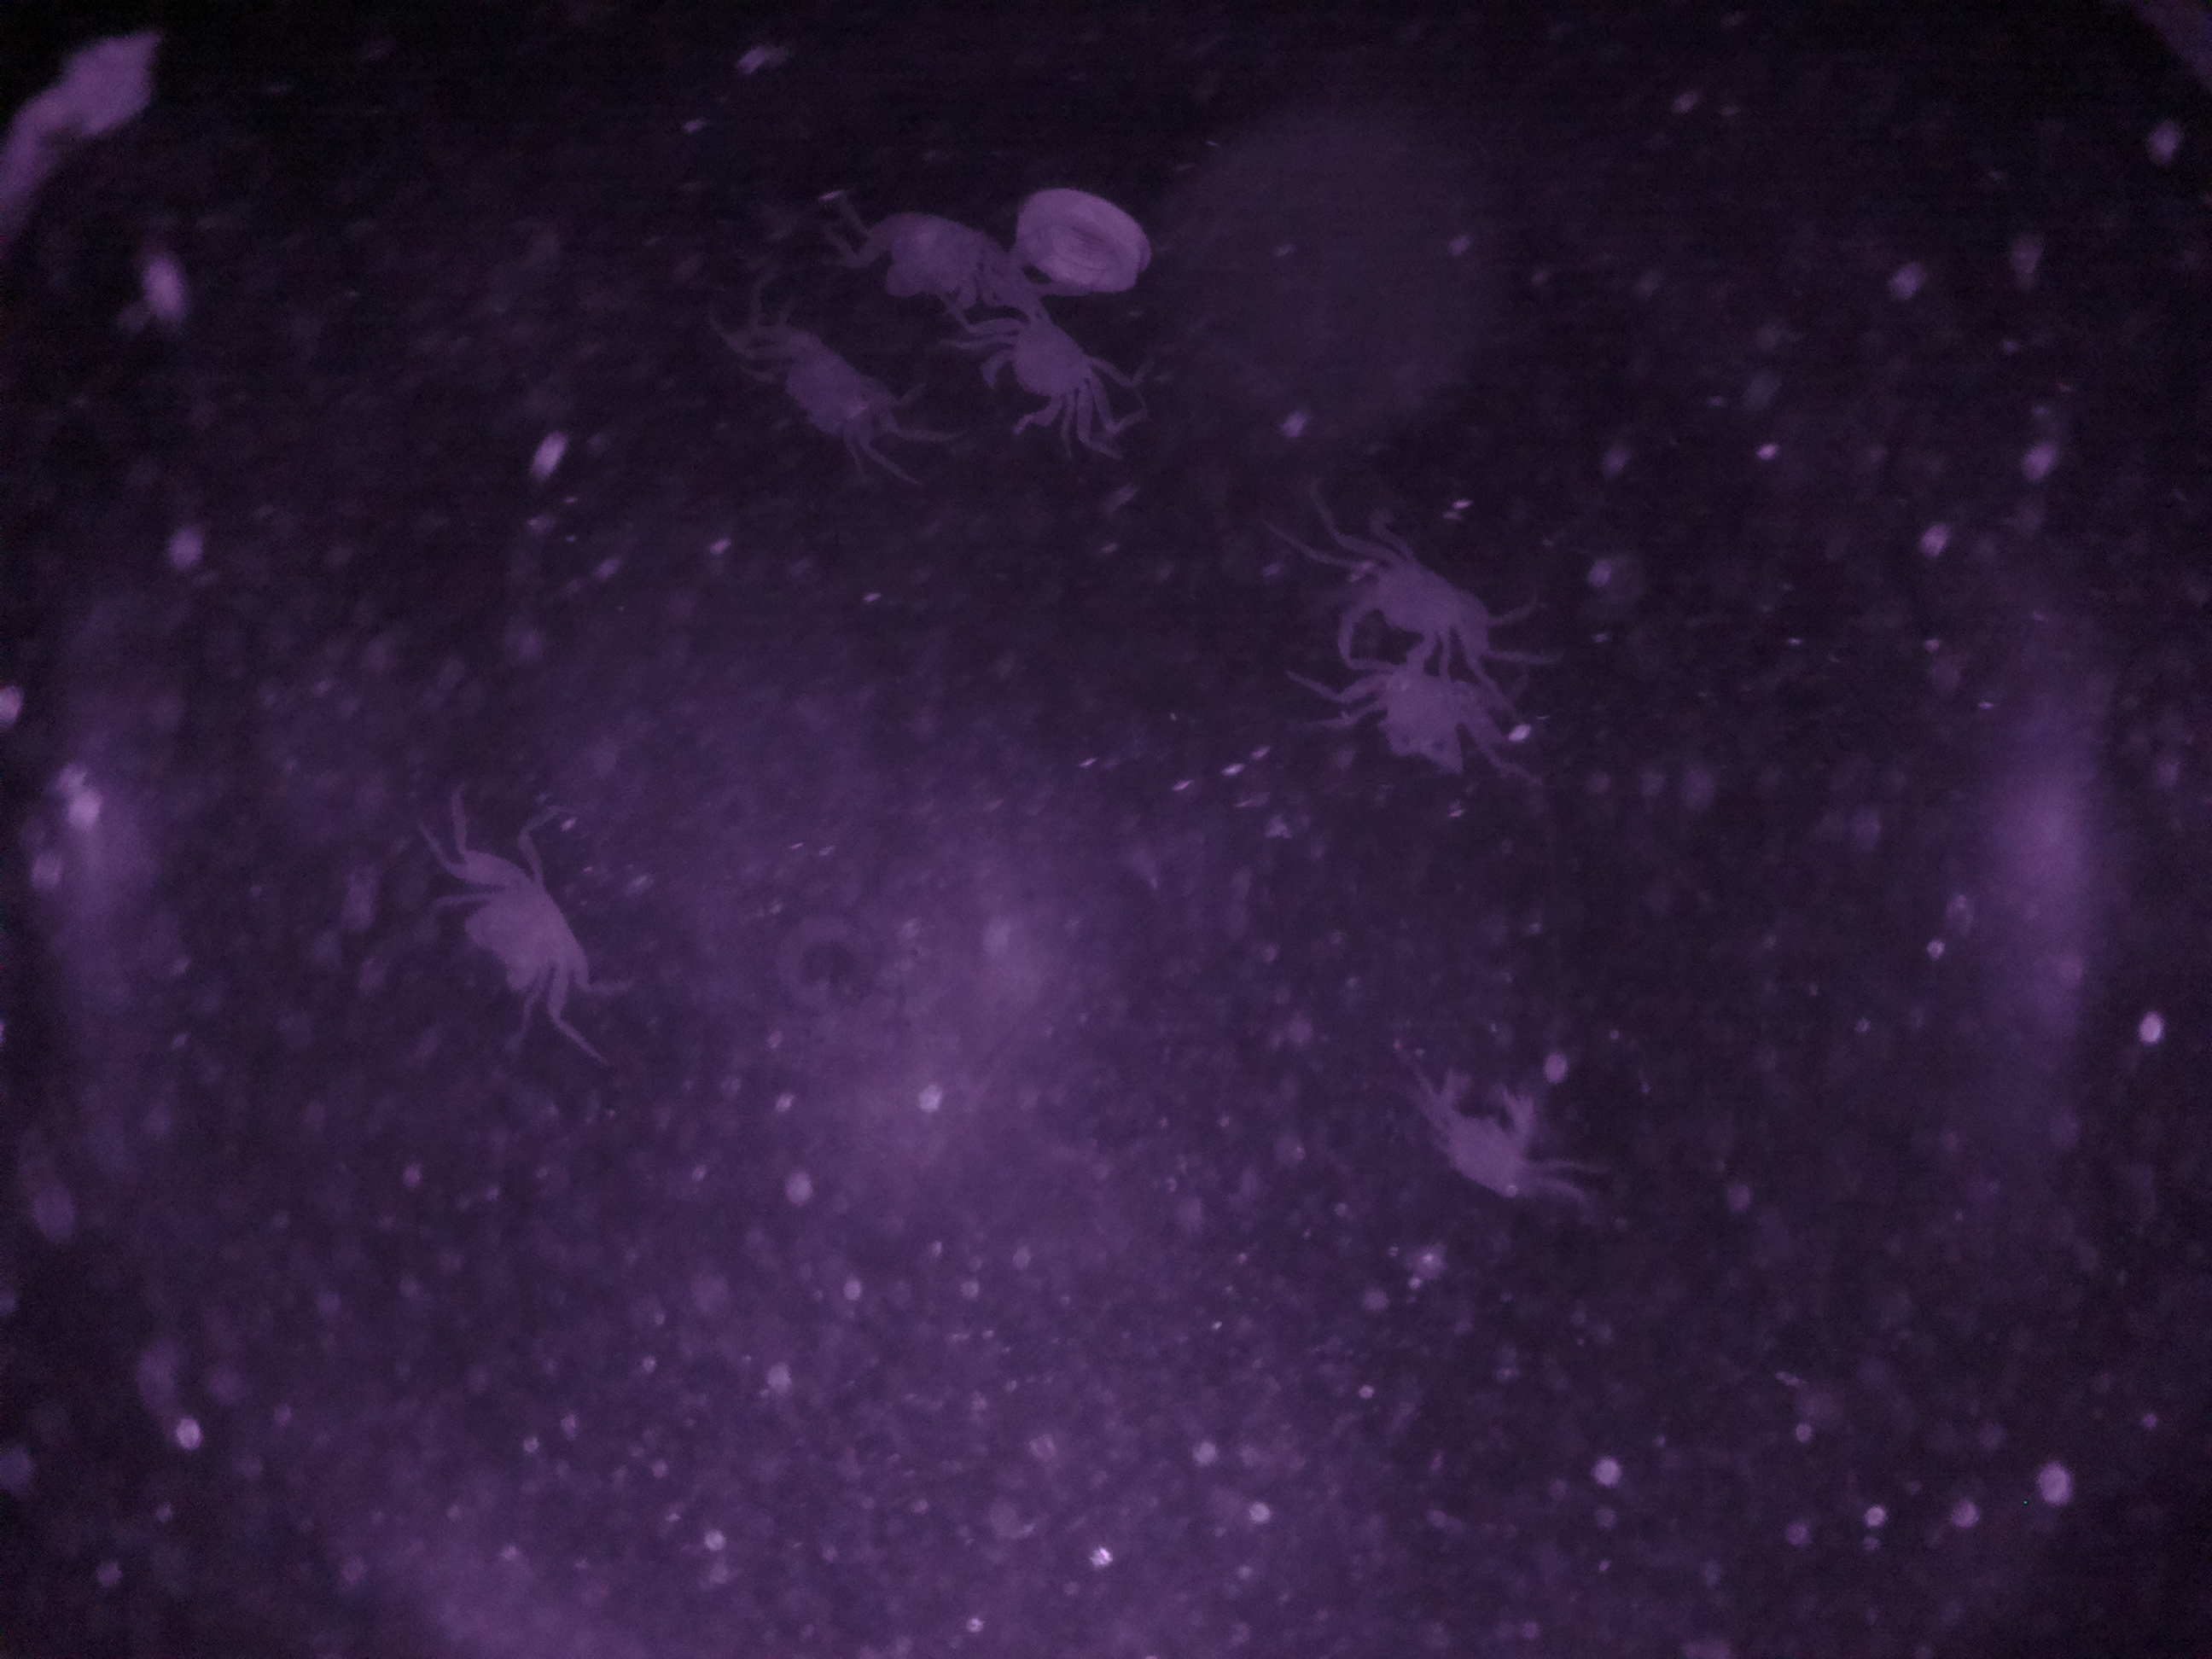Crab: (428, 816, 617, 1039), (954, 260, 1146, 453), (1306, 653, 1554, 784), (1308, 542, 1515, 664)
